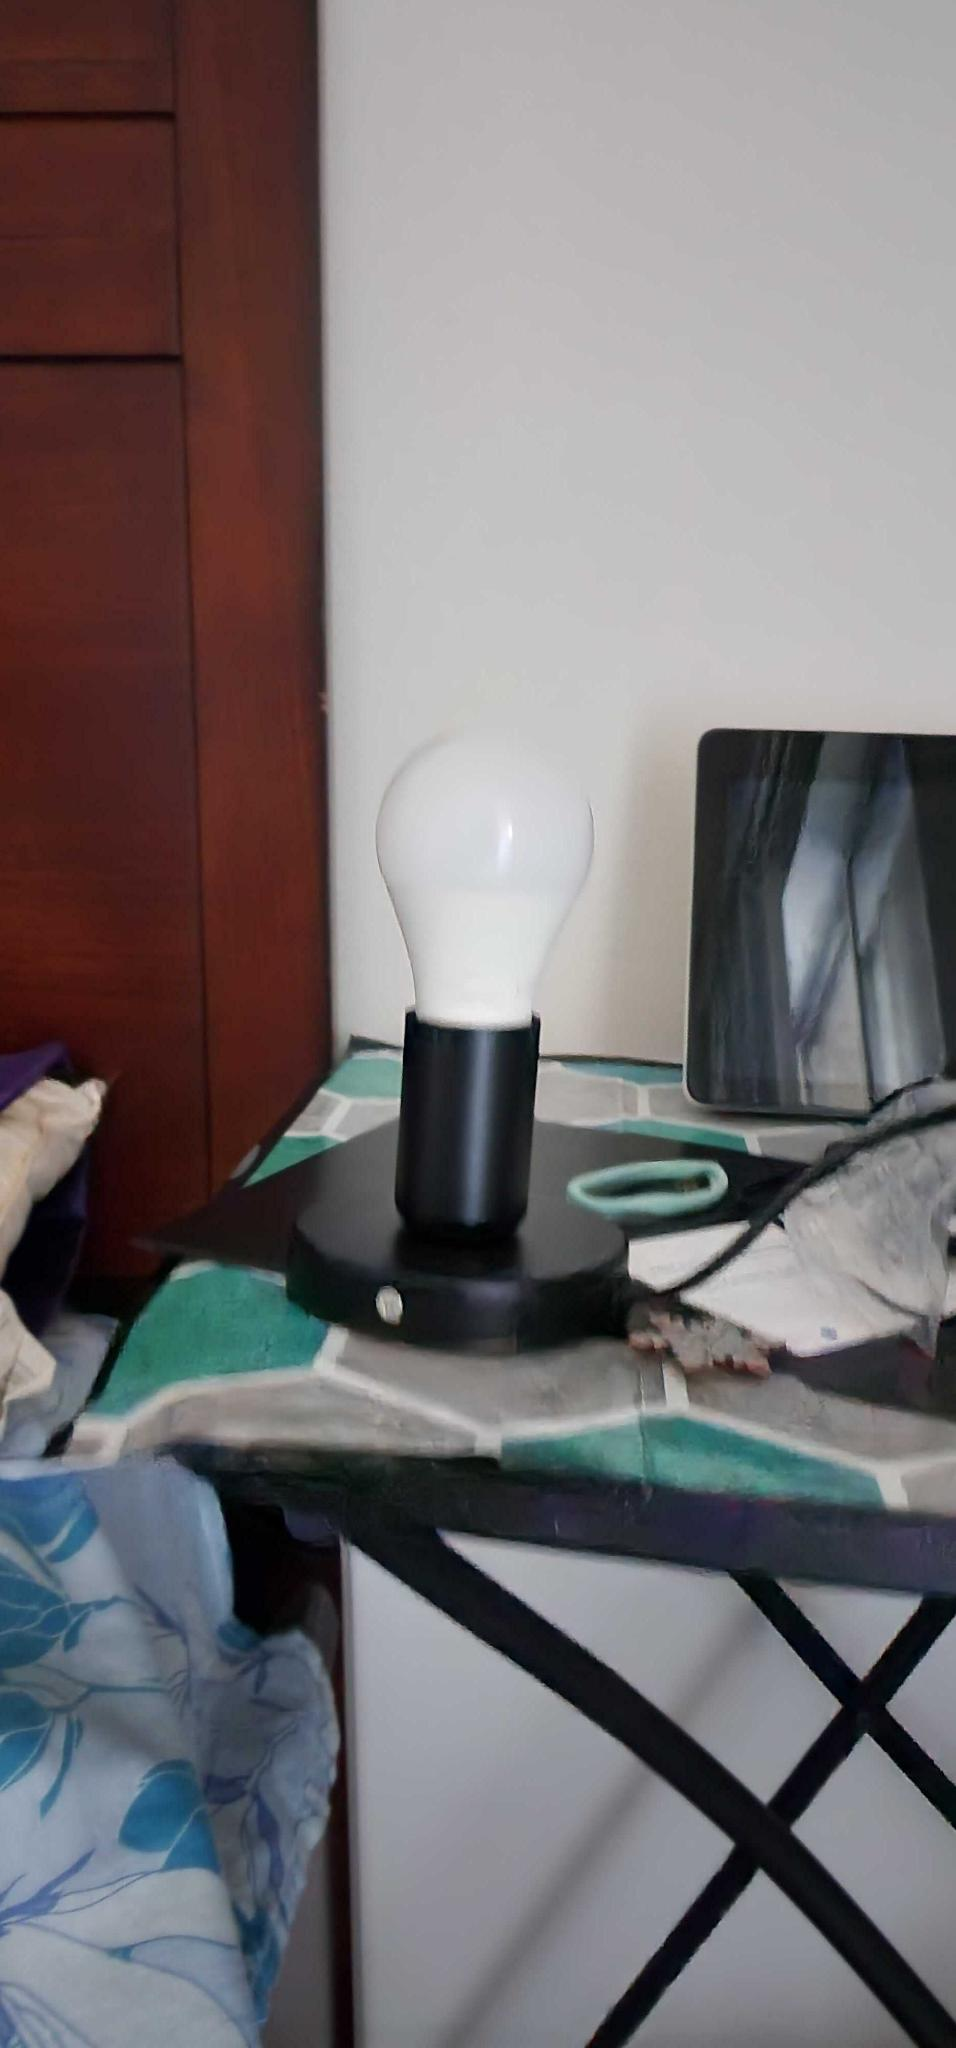Fan: (375, 729, 596, 1229)
